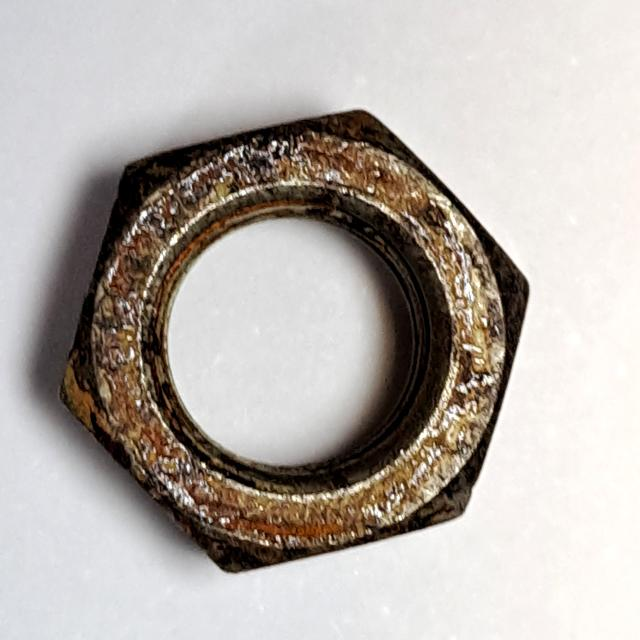Rust: (36, 102, 547, 592)
